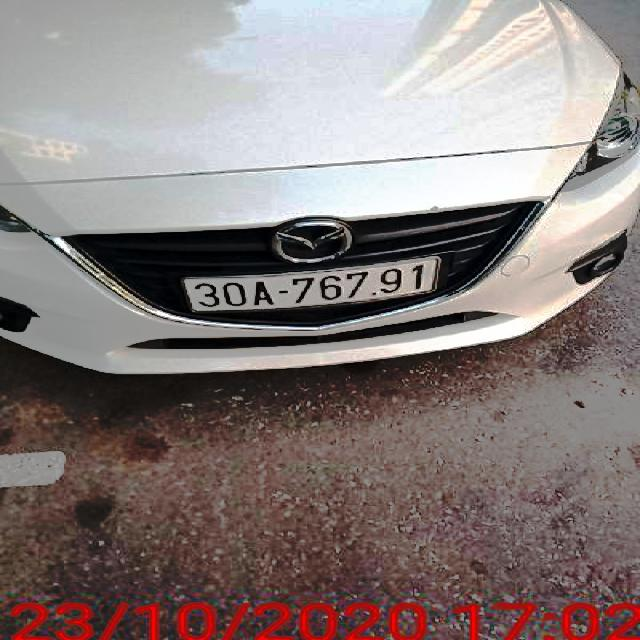license_plate: (188, 259, 440, 316)
